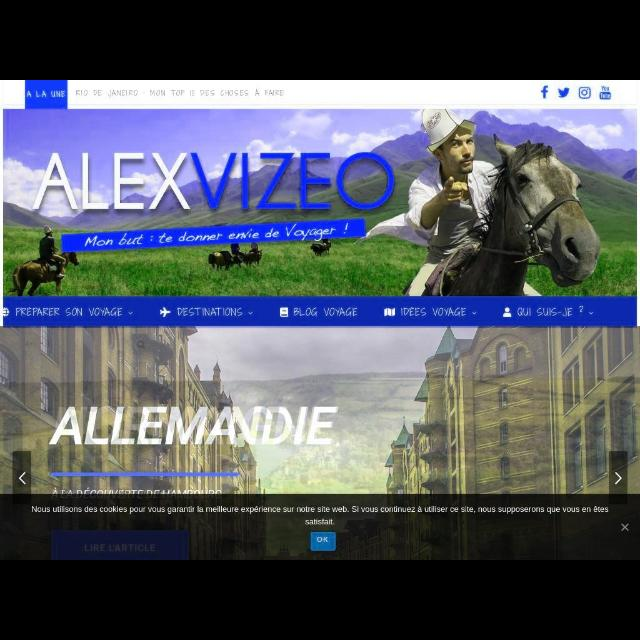backgroundimage: (1, 329, 638, 557)
button: (13, 452, 31, 501), (610, 452, 626, 502)
icon: (498, 304, 514, 318), (158, 304, 172, 318), (278, 304, 290, 320), (381, 306, 397, 318), (614, 469, 622, 487), (17, 470, 27, 484), (620, 522, 630, 532), (2, 306, 10, 318)
iframe: (4, 494, 638, 556)
image: (3, 110, 634, 296), (26, 80, 66, 108), (597, 85, 613, 98), (557, 86, 571, 100), (538, 83, 550, 99), (579, 85, 591, 101)
multitab: (2, 296, 638, 328)
spinner: (15, 306, 134, 320), (176, 304, 254, 320), (402, 305, 478, 321), (518, 306, 596, 318)
text: (48, 402, 340, 448), (32, 506, 612, 526), (52, 489, 224, 501), (148, 88, 284, 100), (178, 305, 242, 319), (294, 304, 358, 318), (83, 543, 157, 555), (17, 308, 121, 316), (403, 306, 467, 318), (74, 88, 140, 98), (519, 306, 575, 316)
textbutton: (49, 530, 189, 558), (310, 533, 336, 551)
